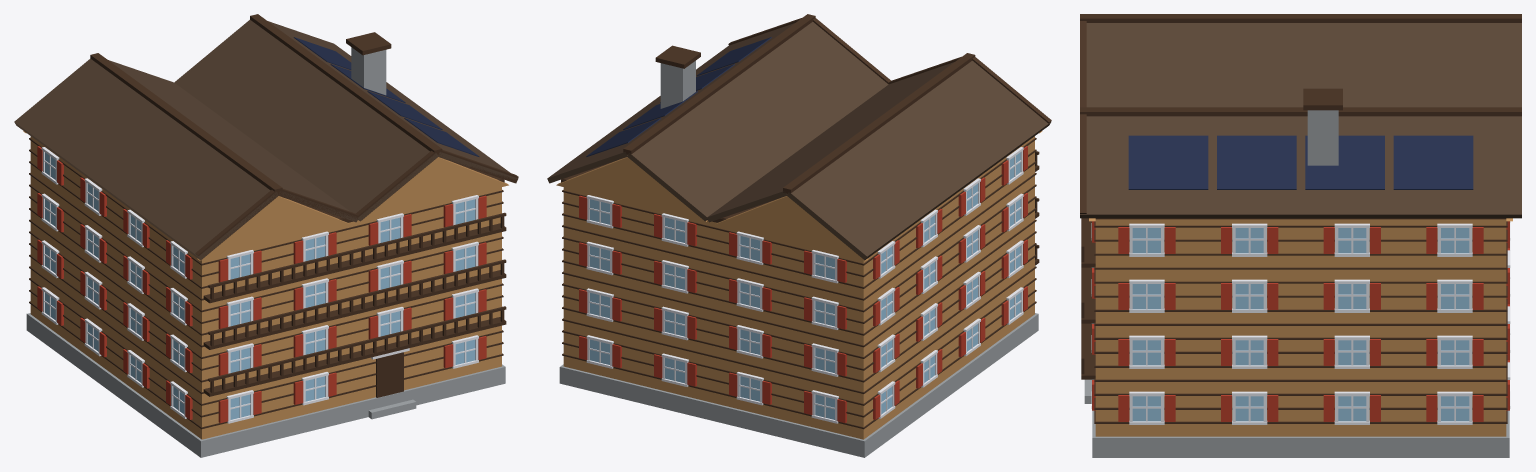
File: house-2x2-4f-chalet-a-solar.glb
3 renders of one model, left to right at view 1: azimuth 30°, elevation 25°; view 2: azimuth 150°, elevation 25°; view 3: azimuth 270°, elevation 25°, orthographic. The views are drawn at different scales.
Parts seen in each view (by area): view 1: house-2x2-4f-chalet-a-solar; view 2: house-2x2-4f-chalet-a-solar; view 3: house-2x2-4f-chalet-a-solar.
Boxes of the visible parts, x1,y1,x2,y2 form: house-2x2-4f-chalet-a-solar: (14,14,518,457); house-2x2-4f-chalet-a-solar: (547,14,1051,457); house-2x2-4f-chalet-a-solar: (1080,14,1521,457).
Bounding box in the file's own units: 2.01 × 1.68 × 2.
Materials: 1 (1 with a texture image).
